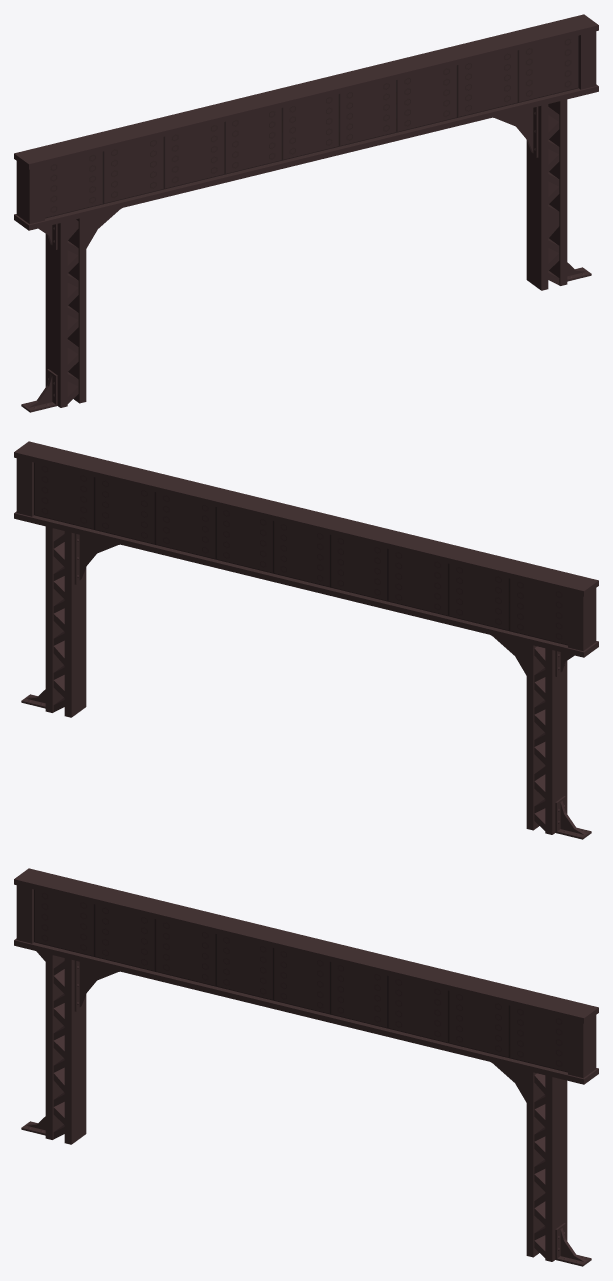
Rendered from SW_ENV_EL_TrackSupport_Upper_Triple.fbx.
The picture shows the model from 3 angles, top to bottom: view 1: azimuth 30°, elevation 25°; view 2: azimuth 150°, elevation 25°; view 3: azimuth 330°, elevation 25°; orthographic projection.
Parts seen in each view (by area): view 1: SW_ENV_EL_TrackSupport_Upper_Triple; view 2: SW_ENV_EL_TrackSupport_Upper_Triple; view 3: SW_ENV_EL_TrackSupport_Upper_Triple.
Boxes of the visible parts, <box> form: SW_ENV_EL_TrackSupport_Upper_Triple: <box>14,14,598,412</box>; SW_ENV_EL_TrackSupport_Upper_Triple: <box>14,441,598,839</box>; SW_ENV_EL_TrackSupport_Upper_Triple: <box>14,868,598,1266</box>.
Size of the model in its own units: 1660 by 700 by 75.
